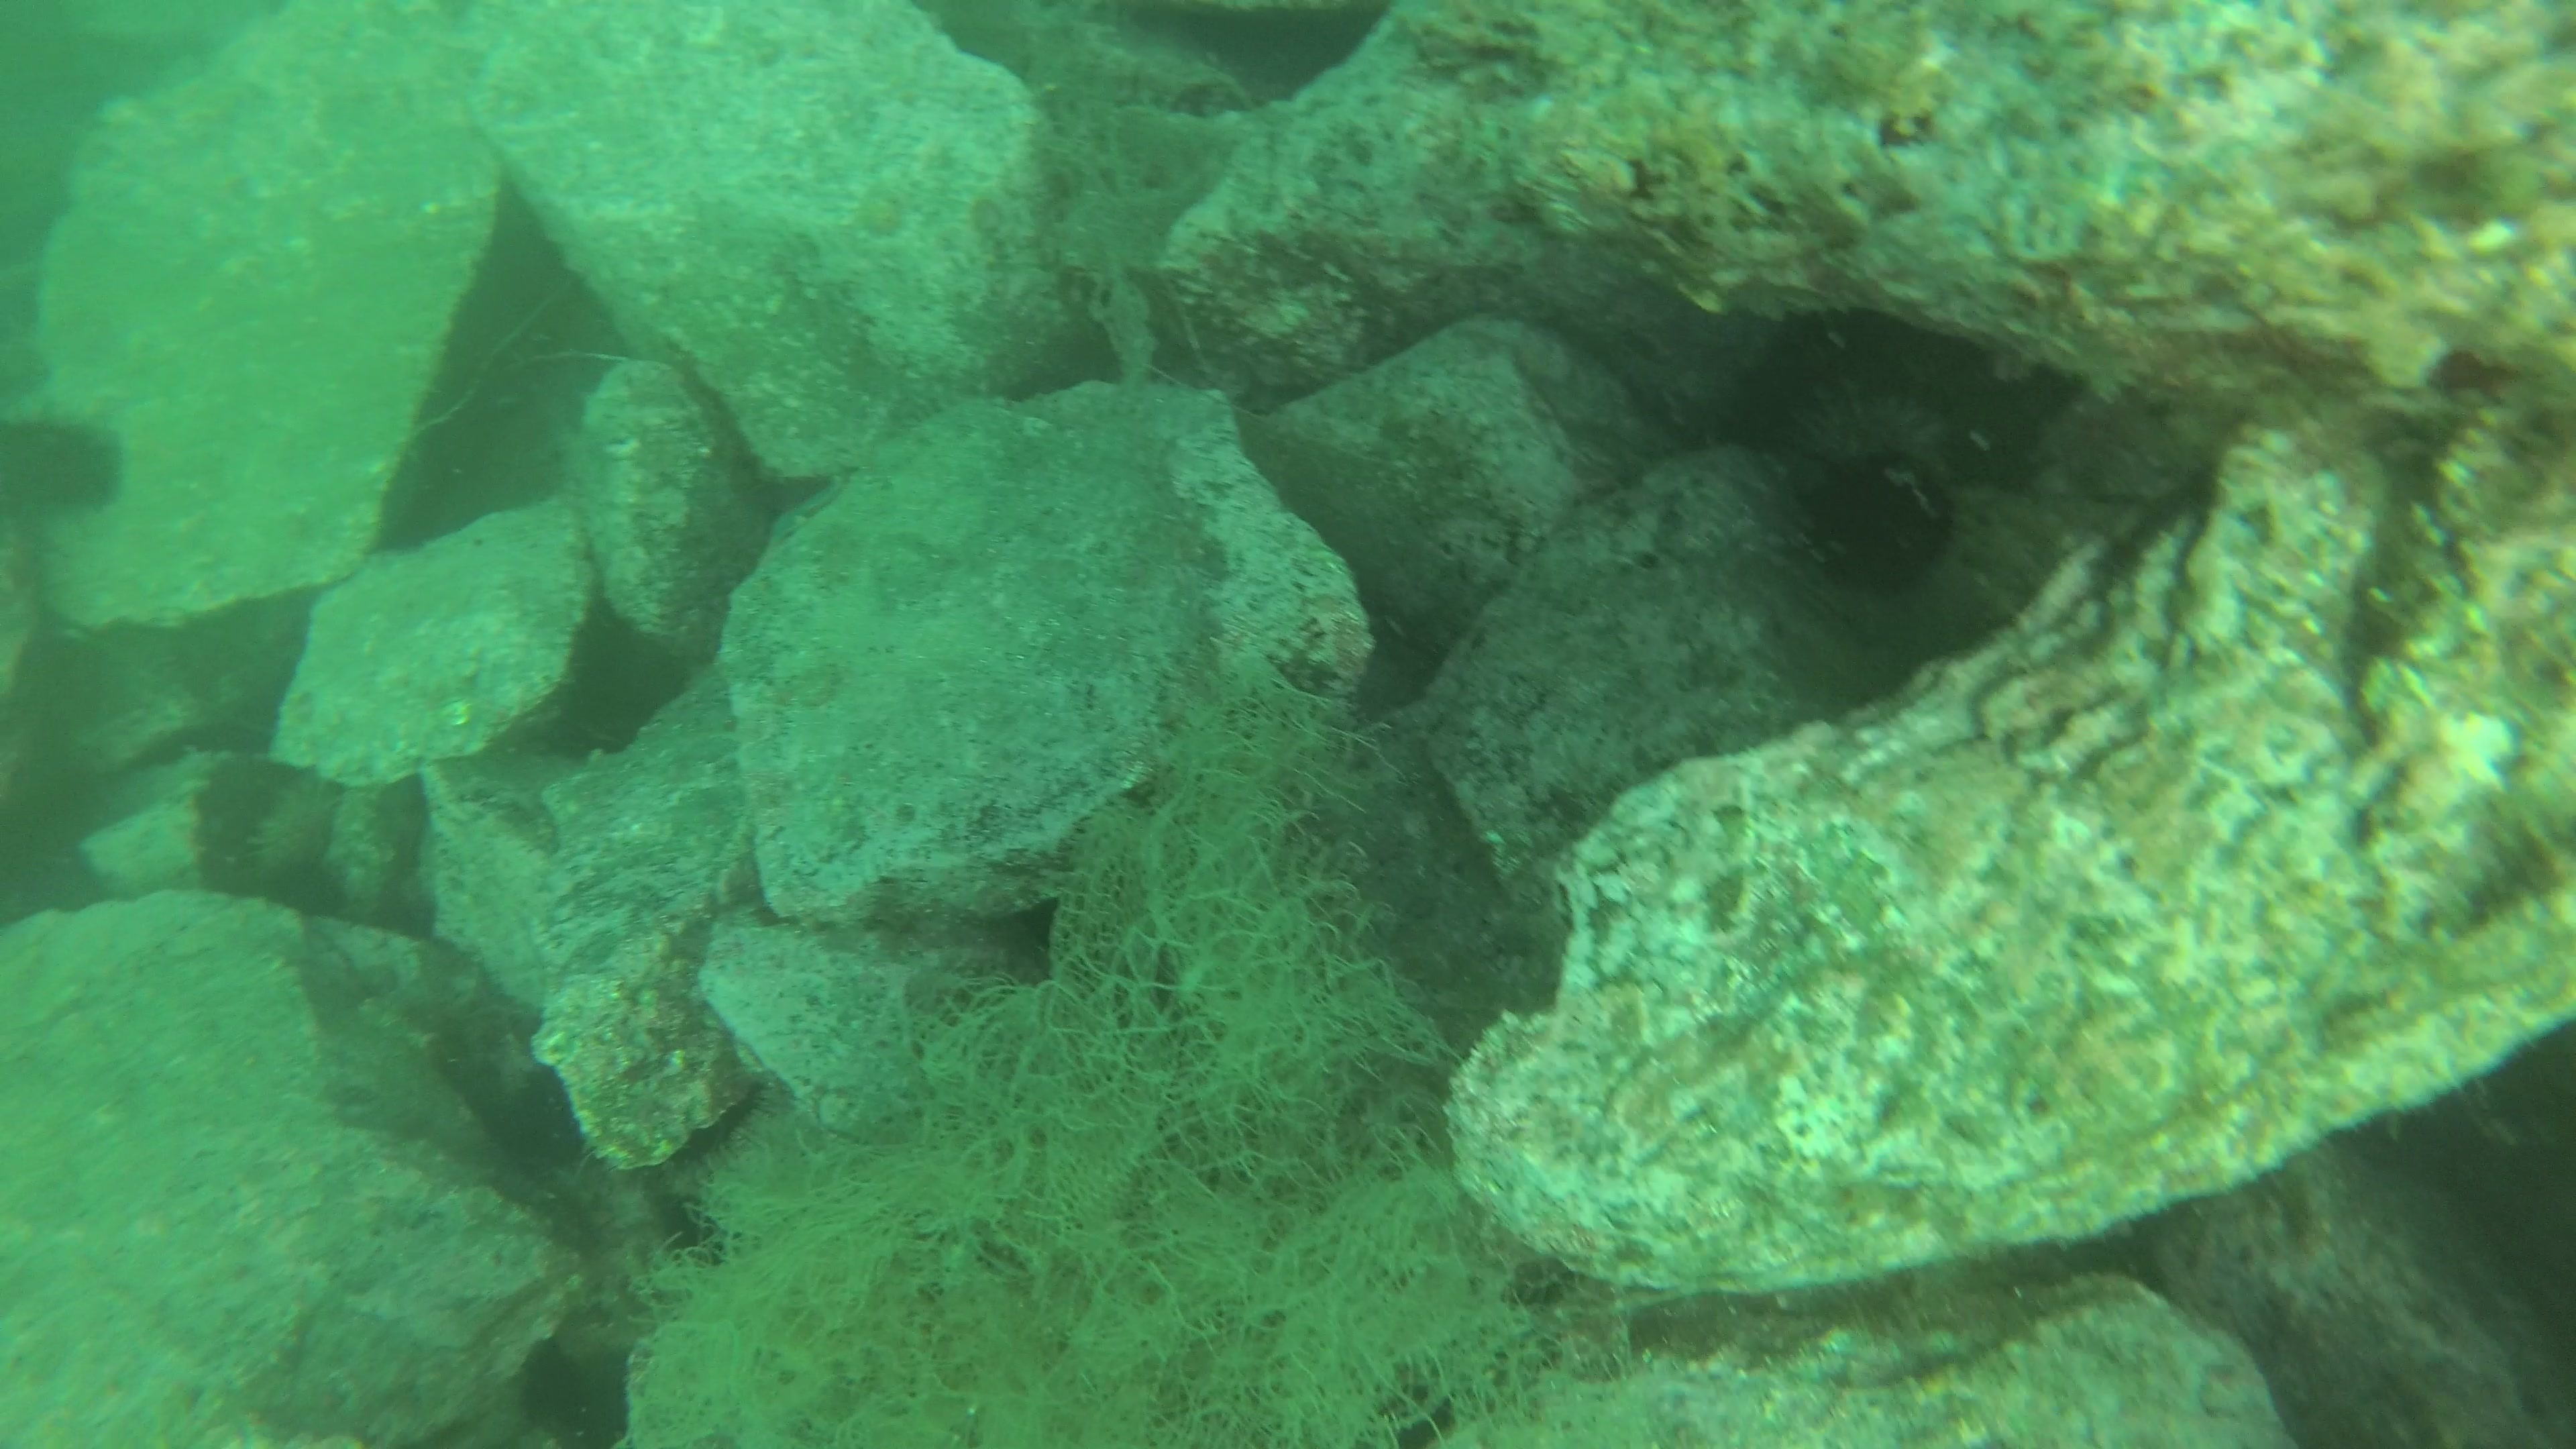echinus: (1790, 444, 1962, 598), (2, 400, 129, 531)
